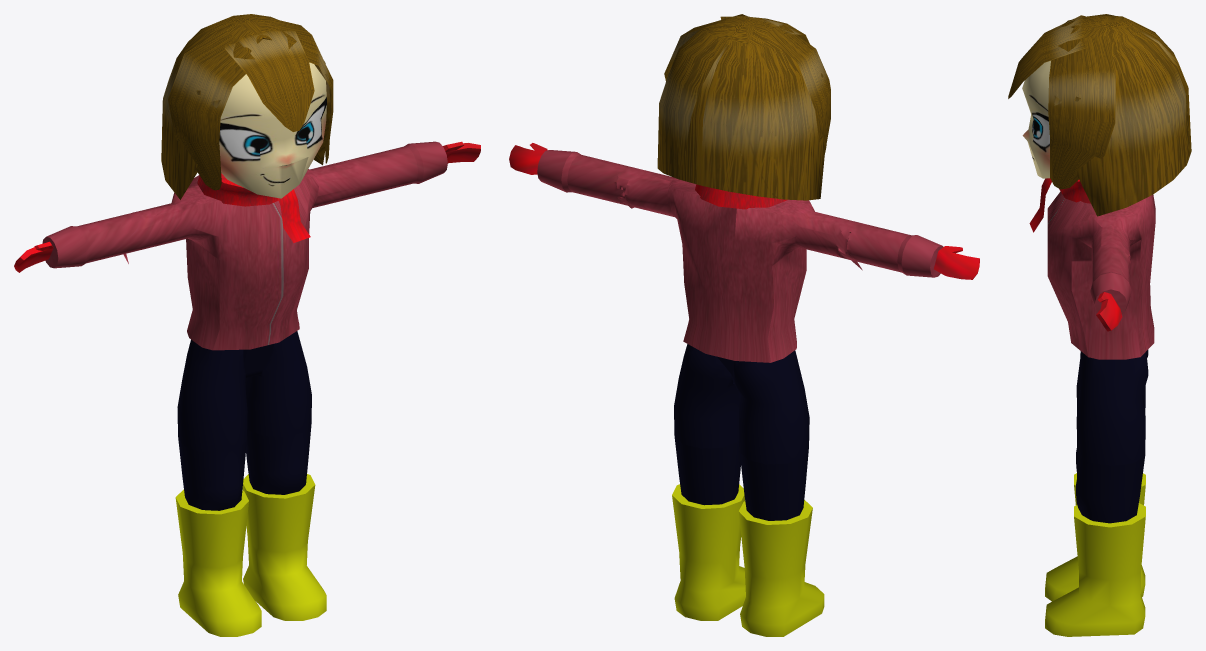
File: Character_model_1.FBX
The picture shows the model from 3 angles, left to right: view 1: azimuth 30°, elevation 25°; view 2: azimuth 150°, elevation 25°; view 3: azimuth 270°, elevation 25°; orthographic projection.
Visible parts, largest first — view 1: skin; view 2: skin; view 3: skin.
Boxes of the visible parts, left/top/right/bottom form: skin: left=14, top=14, right=480, bottom=636; skin: left=509, top=14, right=979, bottom=636; skin: left=1008, top=14, right=1191, bottom=636.
Size of the model in its own units: 74.75 by 89.69 by 25.43.
Materials: 6 (4 with a texture image).
